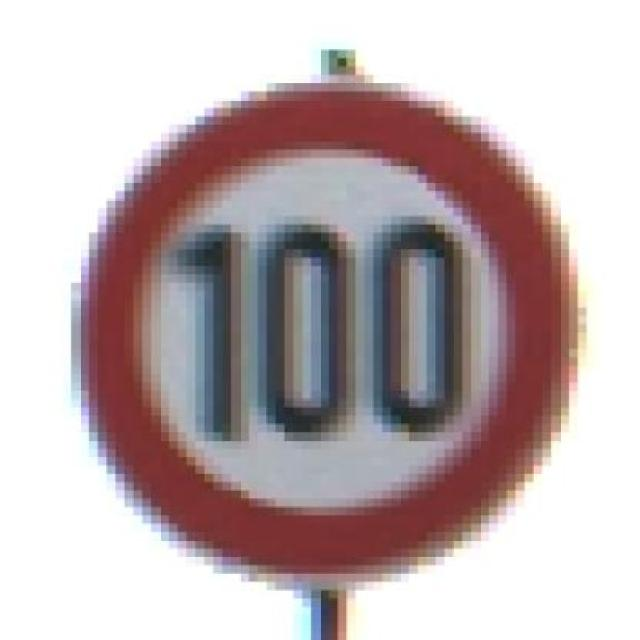forb_speed_over_100: (74, 75, 577, 586)
